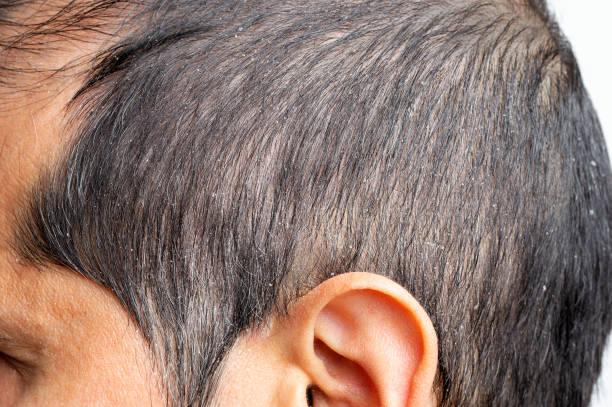dandruff: (118, 236, 184, 281), (584, 149, 600, 180), (229, 23, 248, 46), (186, 59, 204, 81), (535, 274, 549, 299), (108, 49, 126, 65), (259, 272, 275, 289), (588, 197, 597, 223), (417, 78, 429, 88)
